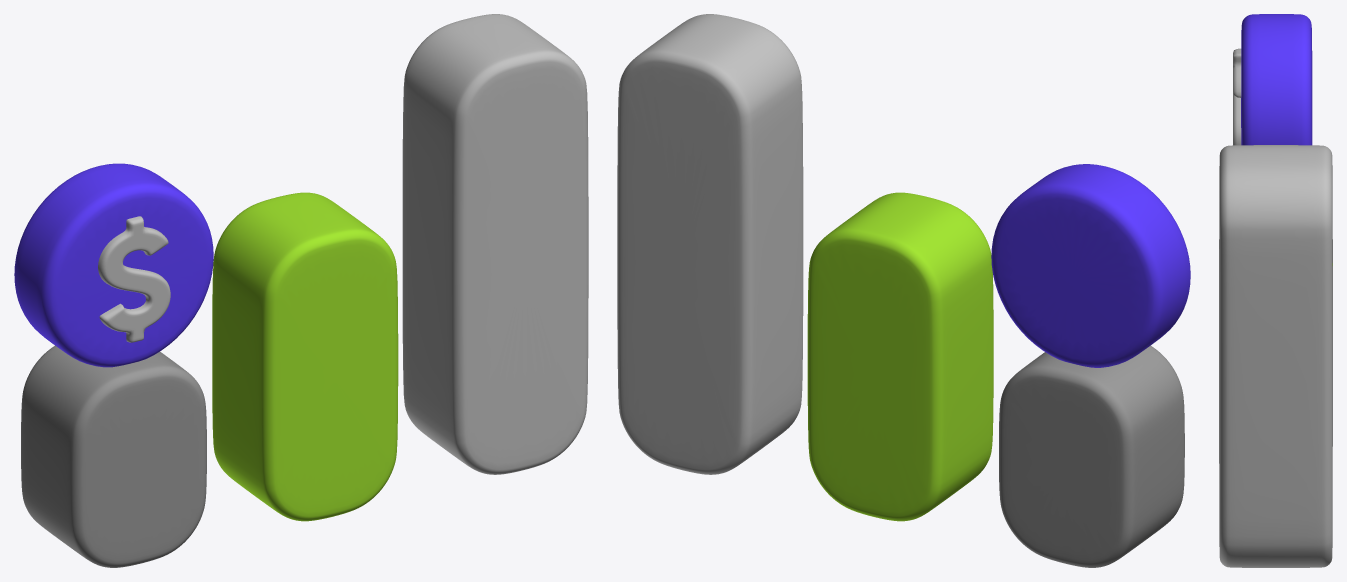
Rendered from spending-stats-animated-3d-icon-729615759725.glb.
3 renders of one model, left to right at view 1: azimuth 30°, elevation 25°; view 2: azimuth 150°, elevation 25°; view 3: azimuth 270°, elevation 25°, orthographic. The views are drawn at different scales.
Parts seen in each view (by area): view 1: Plane.002, Plane.001, Plane, Base.002, Money.002; view 2: Plane.002, Plane.001, Plane, Base.002; view 3: Plane.002, Base.002, Money.002.
Boxes of the visible parts, x1,y1,x2,y2 form: Plane.002: (402, 14, 588, 474); Plane.001: (212, 192, 398, 521); Plane: (21, 345, 206, 567); Base.002: (14, 163, 213, 367); Money.002: (98, 216, 170, 342); Plane.002: (617, 14, 803, 474); Plane.001: (807, 192, 993, 521); Plane: (999, 345, 1184, 567); Base.002: (991, 164, 1190, 367); Plane.002: (1219, 145, 1332, 567); Base.002: (1241, 14, 1312, 145); Money.002: (1233, 48, 1241, 145).
Bounding box in the file's own units: 2.03 × 1.51 × 0.3891.
